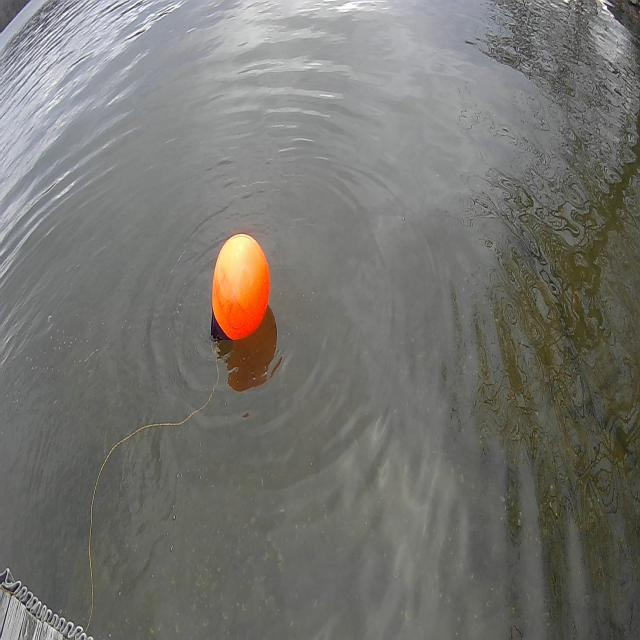Buoy: (197, 220, 276, 352)
